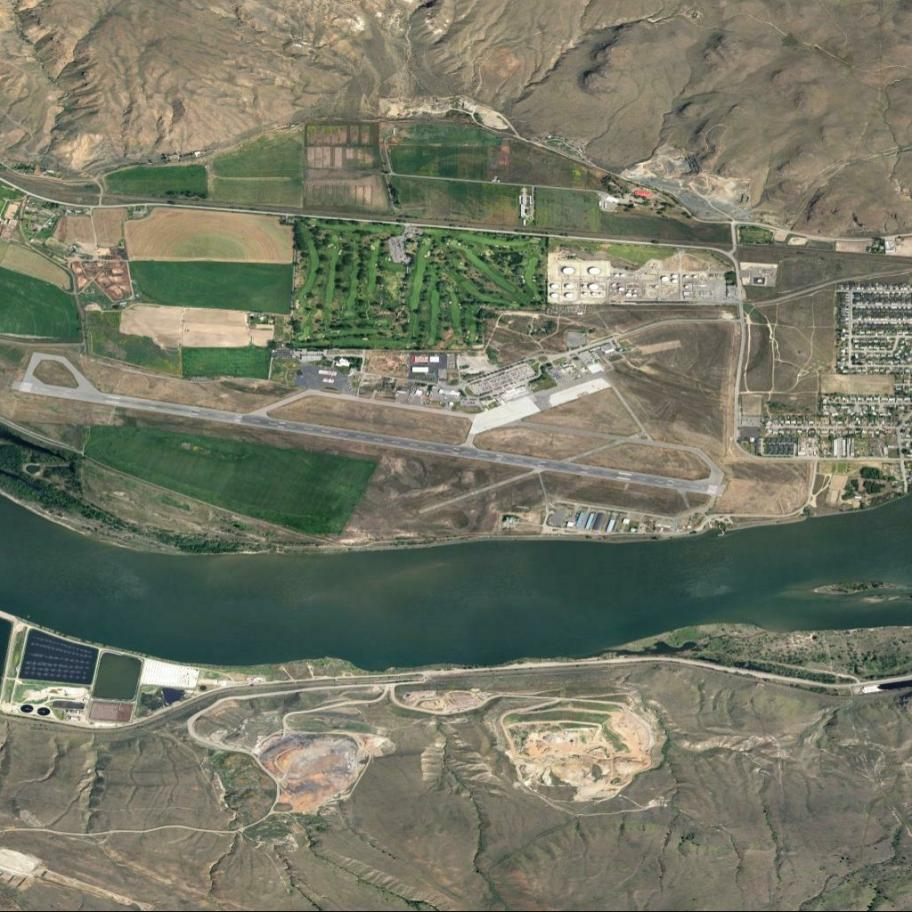storage-tank: (588, 267, 601, 276), (563, 267, 575, 276), (590, 283, 599, 292), (661, 275, 670, 283), (565, 292, 574, 300), (551, 292, 560, 300), (551, 283, 559, 290), (566, 284, 574, 290), (672, 274, 677, 279), (619, 288, 625, 292)
